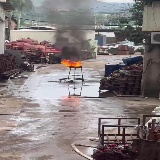fire: (60, 60, 82, 66)
